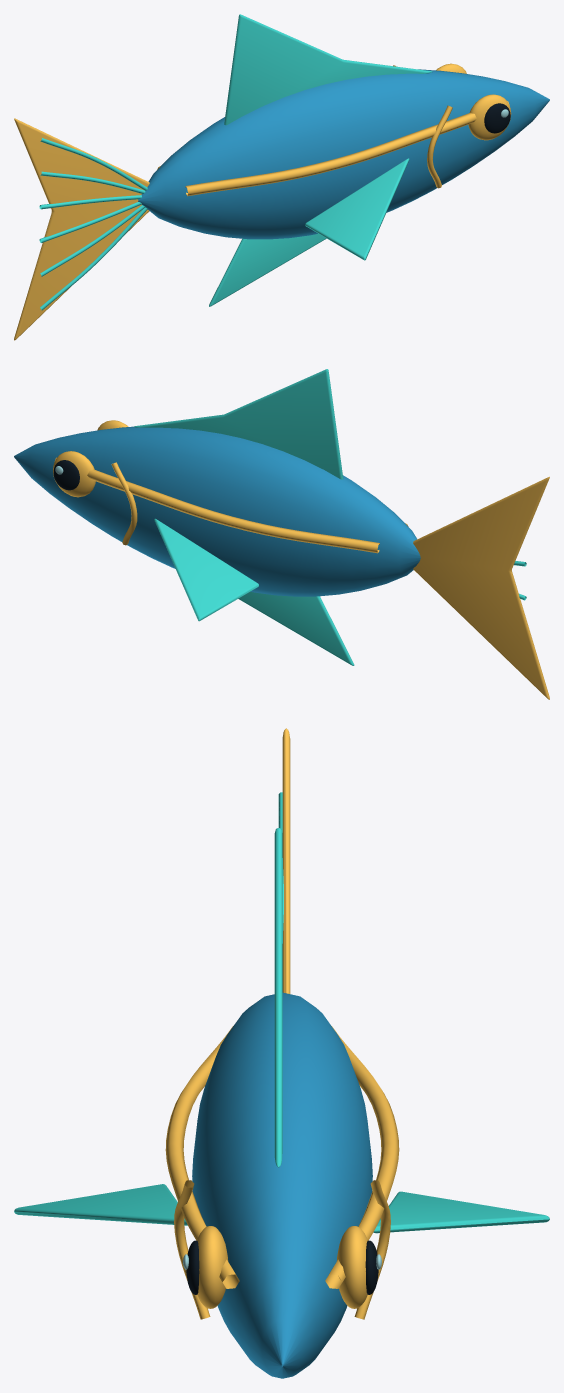
The model's file is reef-fish-cb0f1d62ff5f.glb.
The picture shows the model from 3 angles, top to bottom: view 1: azimuth 30°, elevation 25°; view 2: azimuth 150°, elevation 25°; view 3: azimuth 270°, elevation 25°; orthographic projection. The views are drawn at different scales.
Parts seen in each view (by area): view 1: Fish_Reef_blue_enamel, Fish_Luminous_turquoise_fins, Fish_Reef_gold_accent, Fish_Obsidian_eyes; view 2: Fish_Reef_blue_enamel, Fish_Reef_gold_accent, Fish_Luminous_turquoise_fins, Fish_Obsidian_eyes; view 3: Fish_Reef_blue_enamel, Fish_Reef_gold_accent, Fish_Luminous_turquoise_fins, Fish_Obsidian_eyes.
Boxes of the visible parts, <box> form: Fish_Reef_blue_enamel: <box>138,69,549,239</box>; Fish_Luminous_turquoise_fins: <box>39,14,432,310</box>; Fish_Reef_gold_accent: <box>14,63,511,340</box>; Fish_Obsidian_eyes: <box>484,103,510,133</box>; Fish_Reef_blue_enamel: <box>14,426,420,596</box>; Fish_Reef_gold_accent: <box>53,420,549,699</box>; Fish_Luminous_turquoise_fins: <box>134,369,526,665</box>; Fish_Obsidian_eyes: <box>53,460,79,490</box>; Fish_Reef_blue_enamel: <box>192,992,372,1378</box>; Fish_Reef_gold_accent: <box>165,728,399,1319</box>; Fish_Luminous_turquoise_fins: <box>14,792,549,1233</box>; Fish_Obsidian_eyes: <box>186,1240,378,1294</box>.
Bounding box in the file's own units: 1.65 × 0.846 × 0.8351.
